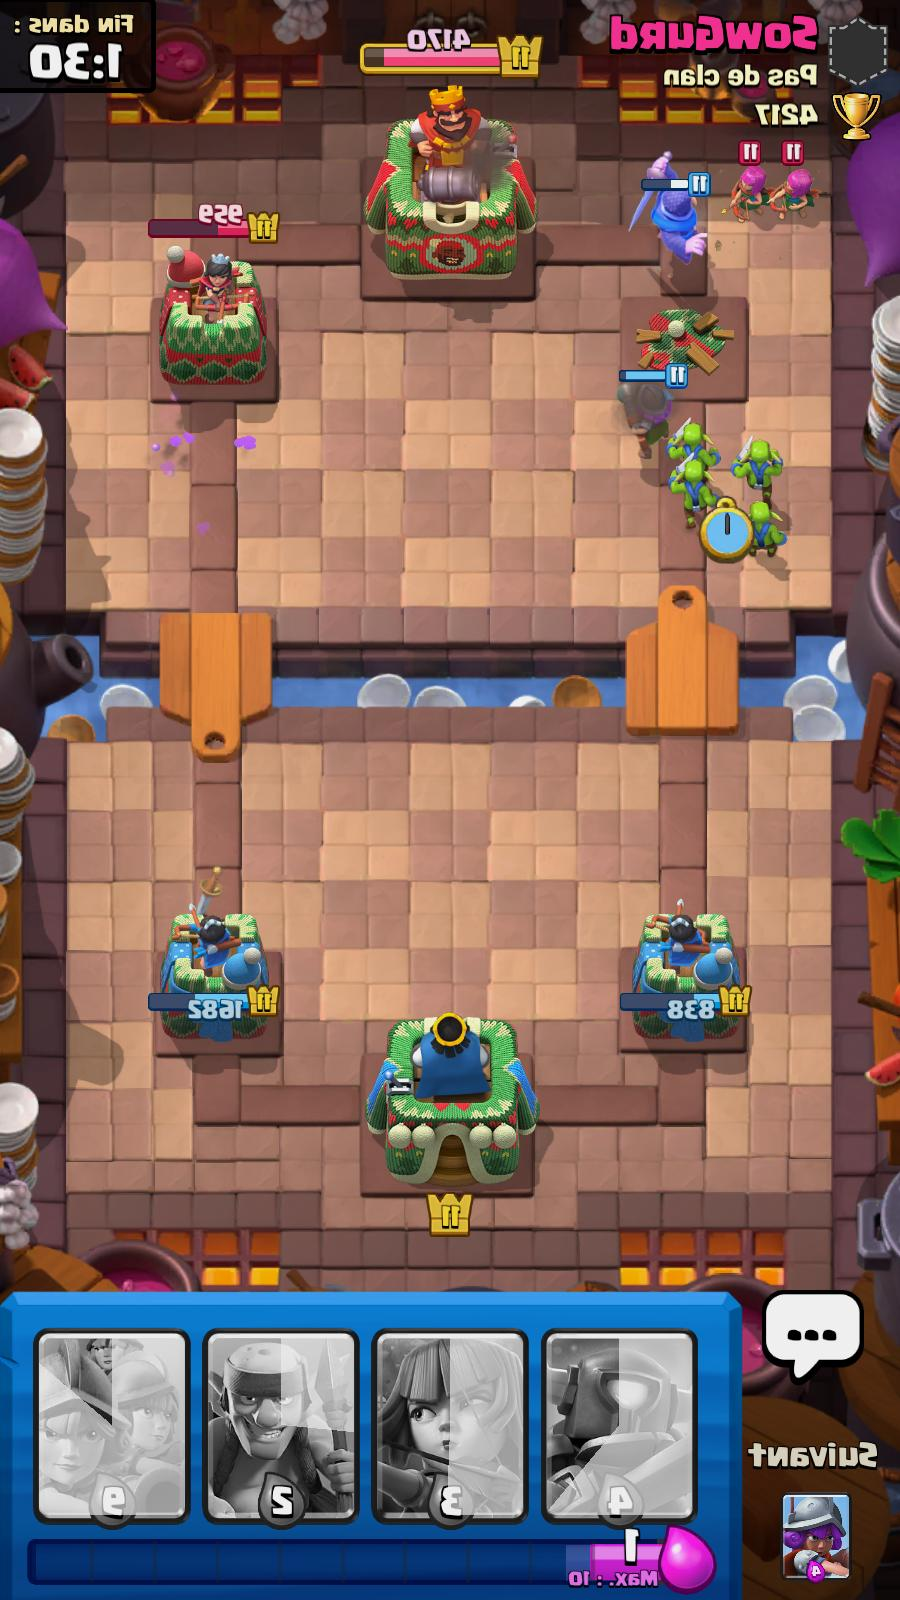archere: (725, 145, 770, 220), (771, 141, 813, 218)
chevalier: (626, 155, 711, 263)
gobelin: (668, 460, 714, 529), (740, 435, 784, 497), (674, 422, 718, 476), (746, 500, 785, 554)
mousquetaire: (614, 367, 682, 457)
